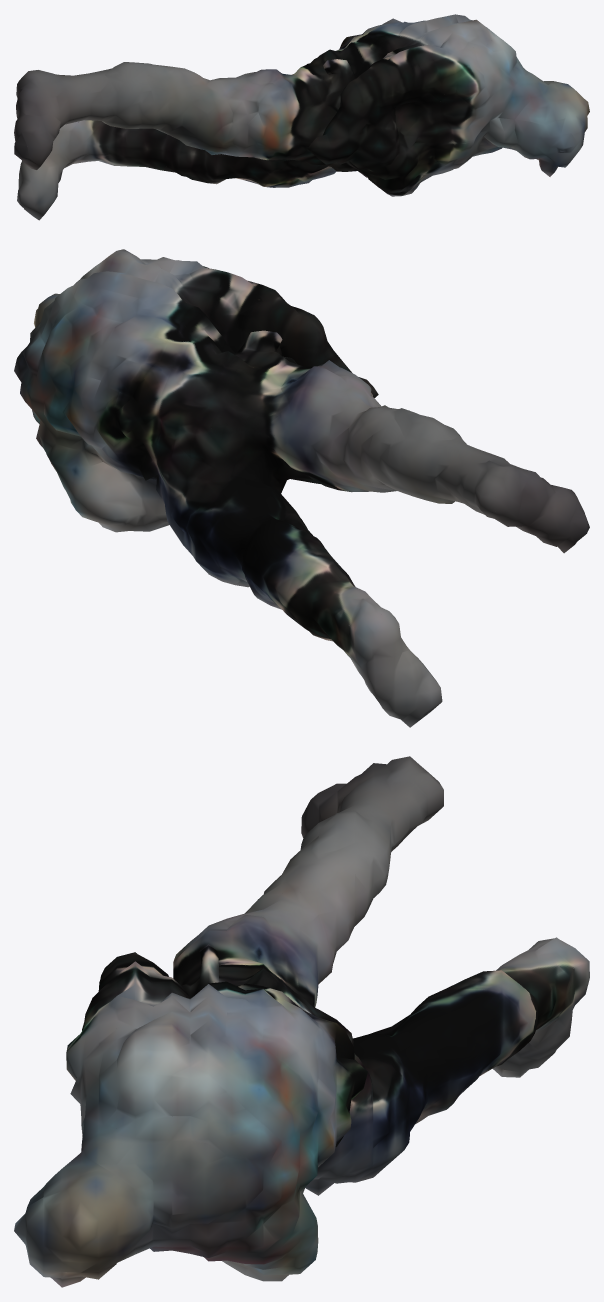
The picture shows the model from 3 angles, top to bottom: view 1: azimuth 30°, elevation 25°; view 2: azimuth 150°, elevation 25°; view 3: azimuth 270°, elevation 25°; orthographic projection. The views are drawn at different scales.
Size of the model in its own units: 0.9227 by 0.3464 by 0.5758.
1 material, 1 textured.
